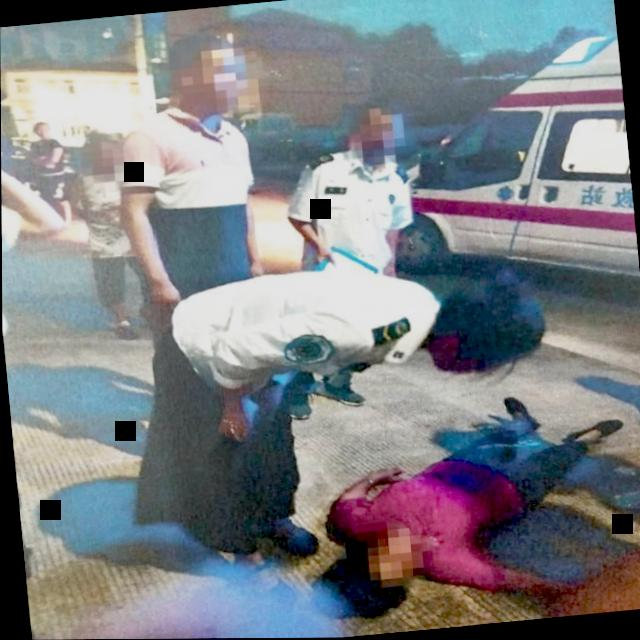Fall-Detected: (292, 377, 640, 625)
